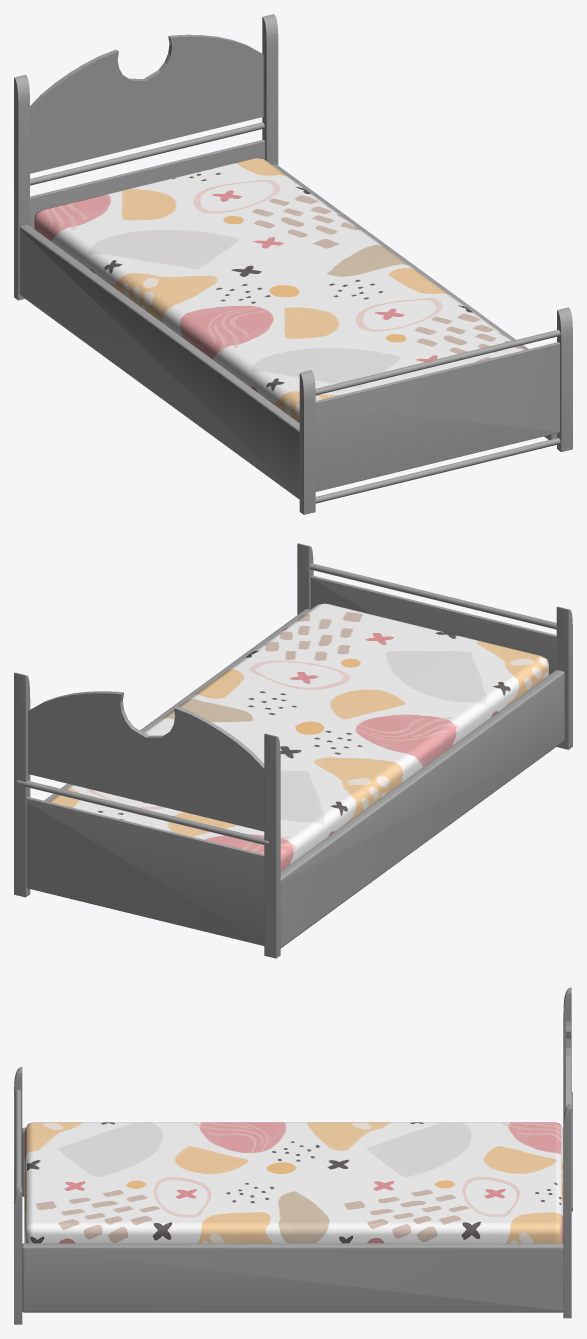
The model's file is Bed.fbx.
3 renders of one model, top to bottom at view 1: azimuth 30°, elevation 25°; view 2: azimuth 150°, elevation 25°; view 3: azimuth 270°, elevation 25°, orthographic. The views are drawn at different scales.
Visible parts, largest first — view 1: Bed, Mattress; view 2: Bed, Mattress; view 3: Mattress, Bed.
Part boxes in pixels (left/top/right/bottom): Bed: left=14, top=14, right=572, bottom=514; Mattress: left=34, top=158, right=524, bottom=422; Bed: left=14, top=543, right=572, bottom=958; Mattress: left=48, top=603, right=548, bottom=870; Mattress: left=24, top=1122, right=563, bottom=1243; Bed: left=14, top=987, right=572, bottom=1324.
Bounding box in the file's own units: 350 × 283 × 660.
